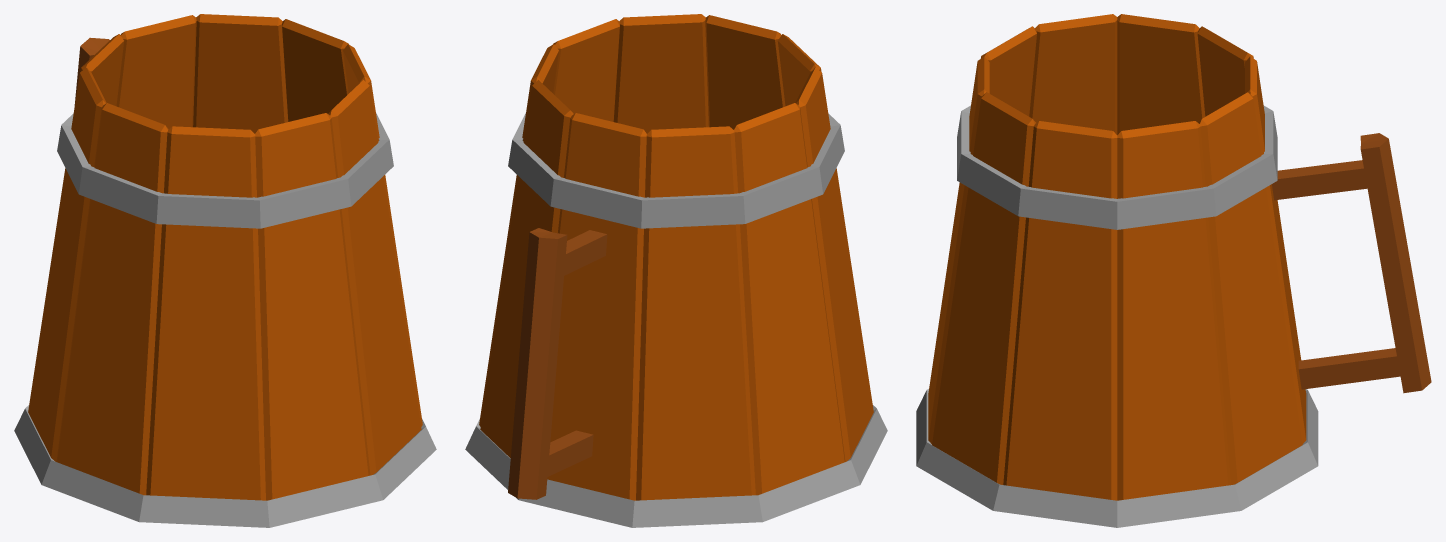
The model's file is Tankard.fbx.
3 renders of one model, left to right at view 1: azimuth 30°, elevation 25°; view 2: azimuth 150°, elevation 25°; view 3: azimuth 270°, elevation 25°, orthographic.
Visible parts, largest first — view 1: Tankard; view 2: Tankard; view 3: Tankard.
Boxes of the visible parts, x1,y1,x2,y2 form: Tankard: (14,14,436,527); Tankard: (465,14,887,527); Tankard: (916,14,1431,527).
Size of the model in its own units: 109 by 106 by 133.
